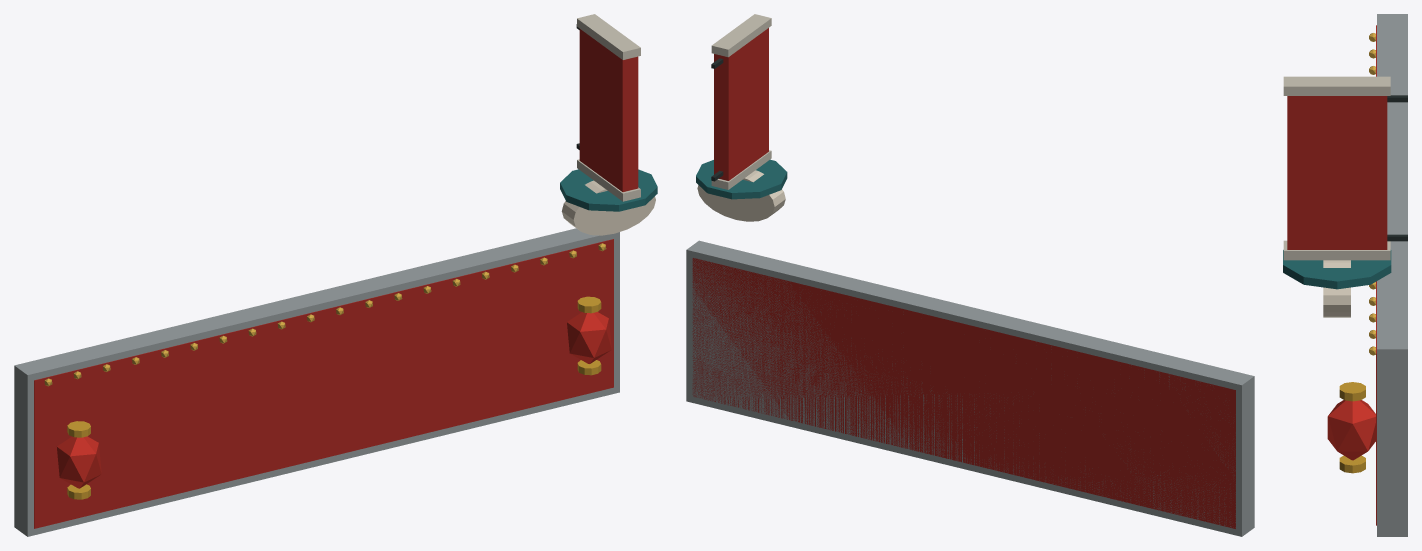
Rendered from bang_hu_tieu_mi_nam_cuong_48.glb.
The picture shows the model from 3 angles, left to right: view 1: azimuth 30°, elevation 25°; view 2: azimuth 150°, elevation 25°; view 3: azimuth 270°, elevation 25°; orthographic projection. The views are drawn at different scales.
Visible parts, largest first — view 1: bang_hu_tieu_mi_nam_cuong_48; view 2: bang_hu_tieu_mi_nam_cuong_48; view 3: bang_hu_tieu_mi_nam_cuong_48.
Boxes of the visible parts, x1,y1,x2,y2 form: bang_hu_tieu_mi_nam_cuong_48: (14,14,657,536); bang_hu_tieu_mi_nam_cuong_48: (686,14,1254,536); bang_hu_tieu_mi_nam_cuong_48: (1283,14,1407,536).
Bounding box in the file's own units: 4.71 × 2.81 × 0.7238.
